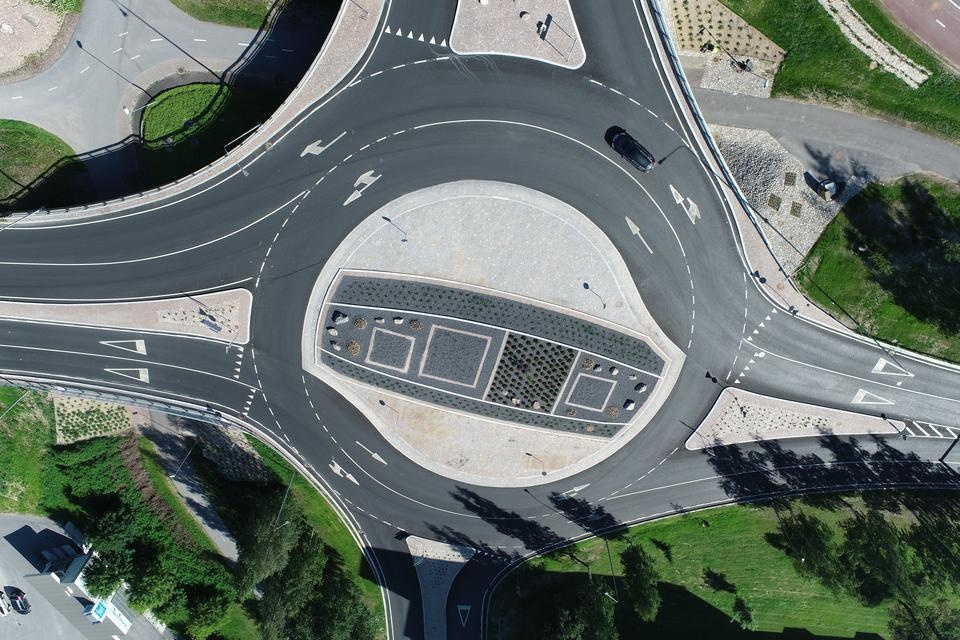roundabout: (205, 0, 790, 587)
